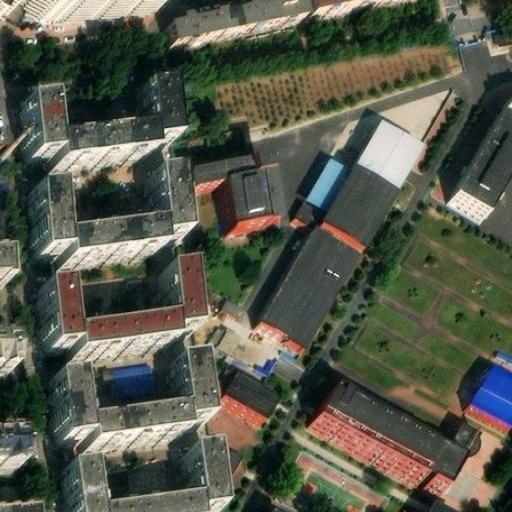building: (306, 389, 452, 493), (261, 220, 361, 342), (316, 160, 396, 246), (291, 441, 388, 510), (444, 127, 512, 217), (350, 114, 421, 185), (55, 227, 154, 266), (86, 394, 183, 431), (71, 312, 172, 347), (26, 0, 167, 24), (59, 122, 154, 156), (215, 179, 270, 235), (225, 362, 282, 410), (470, 359, 512, 421), (52, 357, 88, 426), (162, 258, 198, 324), (306, 150, 350, 203), (23, 191, 57, 258), (180, 450, 216, 512), (174, 343, 208, 408), (144, 173, 176, 242), (41, 274, 73, 341), (179, 167, 243, 199), (27, 88, 61, 148), (146, 76, 178, 132), (60, 470, 90, 512), (484, 99, 512, 142), (293, 191, 326, 226), (0, 335, 18, 372), (127, 502, 189, 512), (0, 499, 40, 512)
